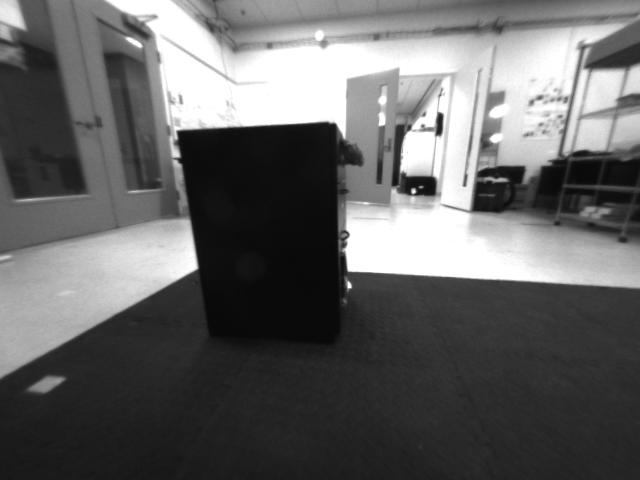door_handle: (68, 118, 98, 134)
drawer: (338, 130, 368, 174)
